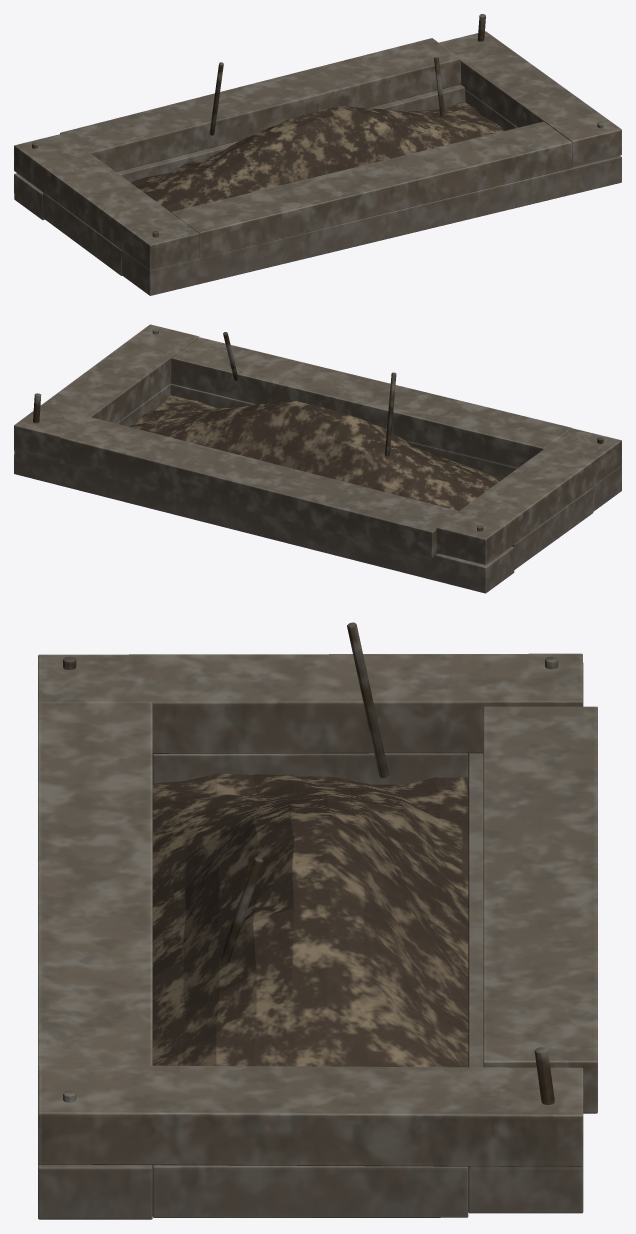
The model's file is bed_sleeper.glb.
The picture shows the model from 3 angles, top to bottom: view 1: azimuth 30°, elevation 25°; view 2: azimuth 150°, elevation 25°; view 3: azimuth 270°, elevation 25°; orthographic projection. The views are drawn at different scales.
Visible parts, largest first — view 1: bed_sleeper_WearBedTimberBed, bed_sleeper_WearBedSoilBed; view 2: bed_sleeper_WearBedTimberBed, bed_sleeper_WearBedSoilBed; view 3: bed_sleeper_WearBedTimberBed, bed_sleeper_WearBedSoilBed.
Boxes of the visible parts, x1=… form: bed_sleeper_WearBedTimberBed: x1=14, y1=14, x2=621, y2=295; bed_sleeper_WearBedSoilBed: x1=130, y1=101, x2=503, y2=212; bed_sleeper_WearBedTimberBed: x1=14, y1=324, x2=621, y2=593; bed_sleeper_WearBedSoilBed: x1=129, y1=395, x2=503, y2=510; bed_sleeper_WearBedTimberBed: x1=38, y1=622, x2=597, y2=1219; bed_sleeper_WearBedSoilBed: x1=152, y1=773, x2=468, y2=1067.
Size of the model in its own units: 1.9 by 0.5536 by 0.9762.
2 materials, 2 textured.
